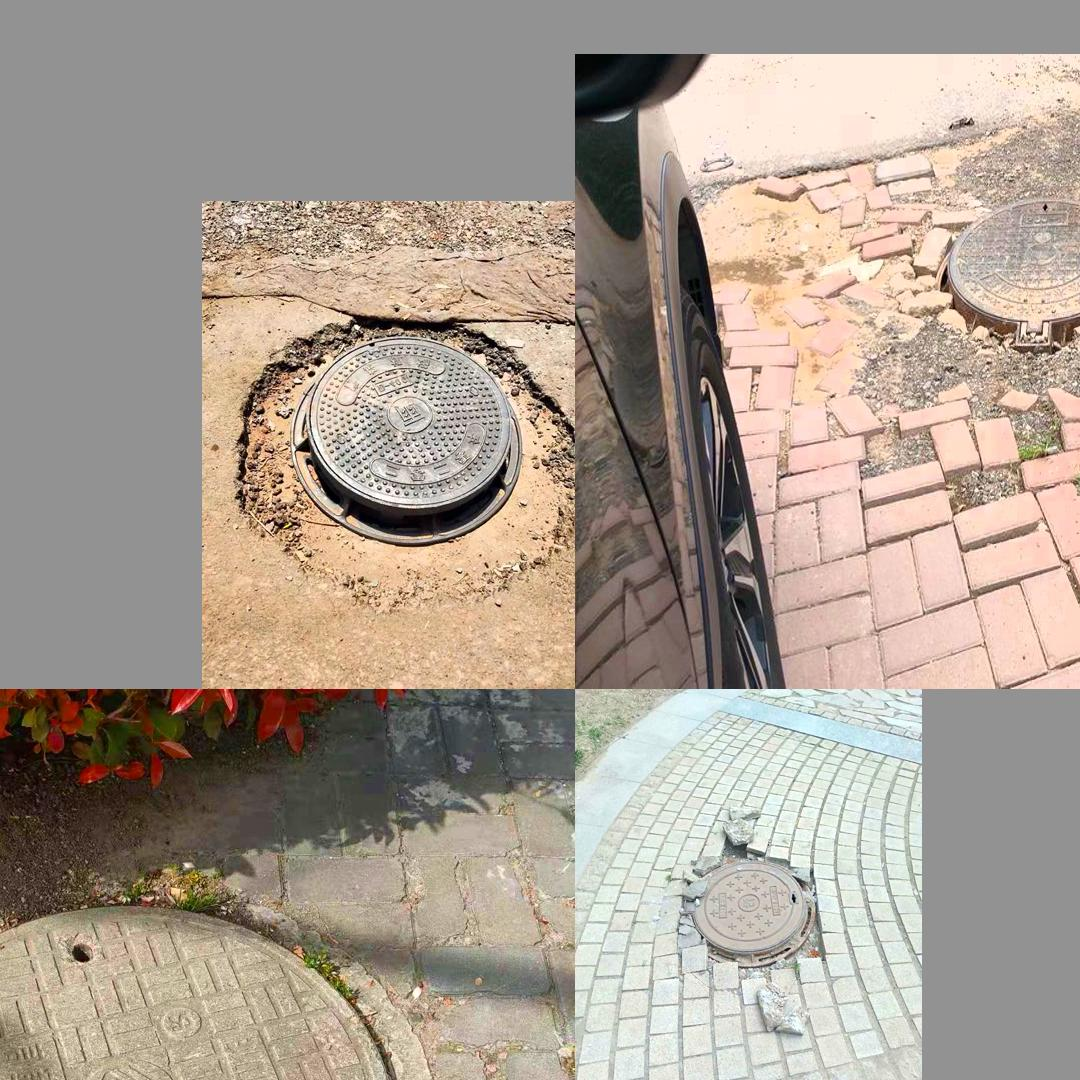circle: (239, 319, 568, 605), (0, 881, 413, 1080), (867, 153, 1080, 405), (658, 829, 838, 992)
